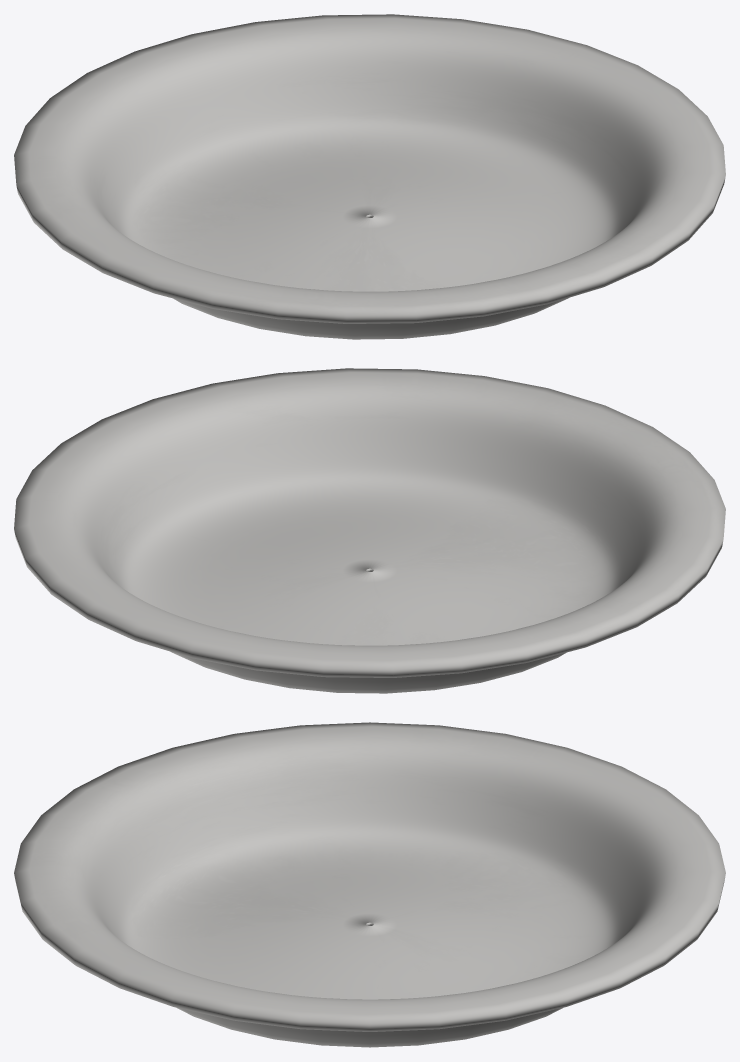
3 views of the same model, one above another, from view 1: azimuth 30°, elevation 25°; view 2: azimuth 150°, elevation 25°; view 3: azimuth 270°, elevation 25° (orthographic).
Visible parts, largest first — view 1: BowlI1; view 2: BowlI1; view 3: BowlI1.
Part boxes in pixels (x1,y1,x2,y2): BowlI1: (14, 14, 725, 339); BowlI1: (14, 368, 725, 693); BowlI1: (14, 722, 725, 1047).
Bounding box in the file's own units: 5.7 × 0.7137 × 5.7.
